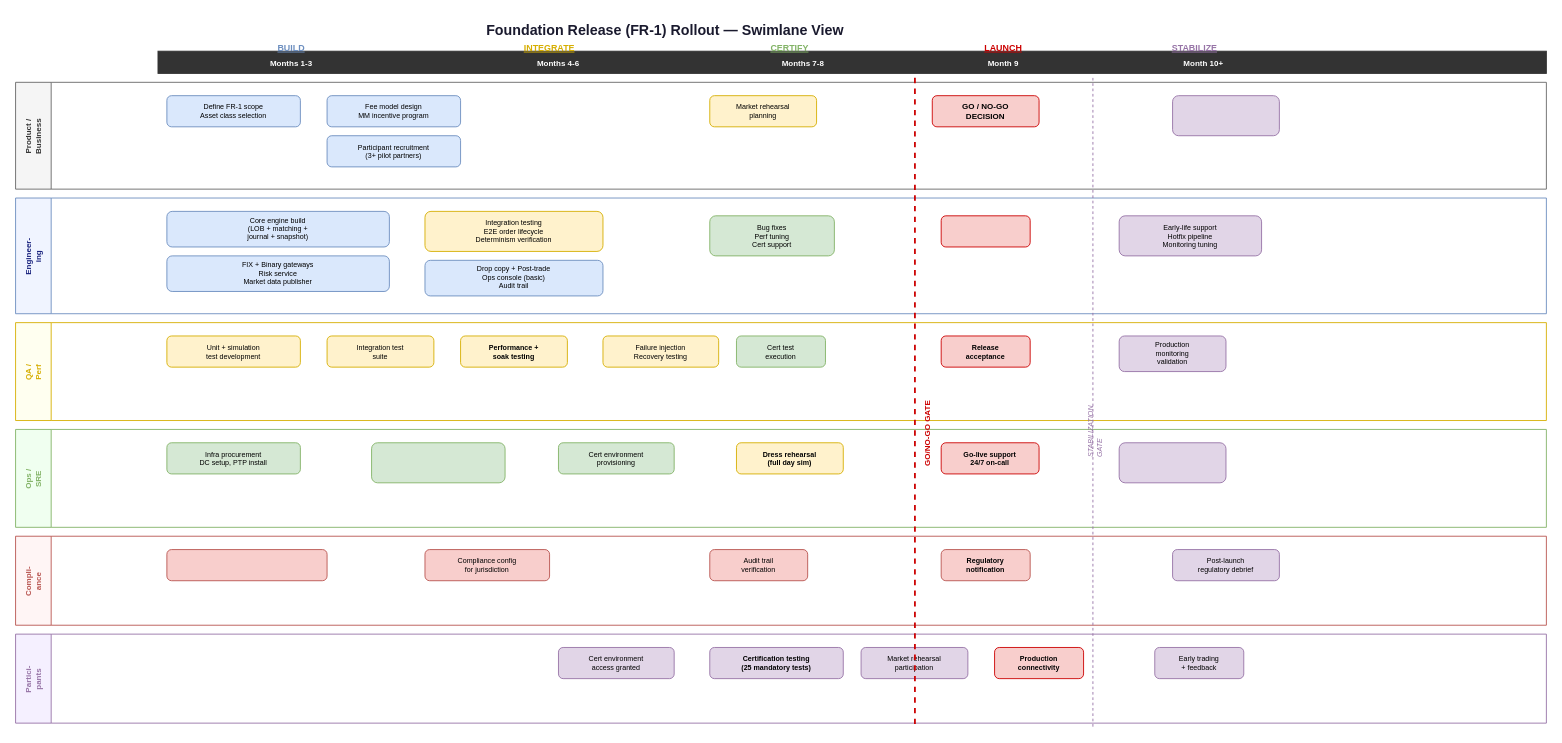
Some shapes in this 1562 by 743 pixel diagram are drawn without their labels. Here are the shapes that lost their labels. From the top down, the centre of each, then its label:
At pixel 1225 115: "Post-launch review + EGR planning".
At pixel 985 231: "Production deployment".
At pixel 438 462: "Monitoring stack Alerting rules Runbook drafts".
At pixel 1172 462: "Early-life ops Daily reviews Tuning".
At pixel 246 565: "Regulatory engagement License application prep".
